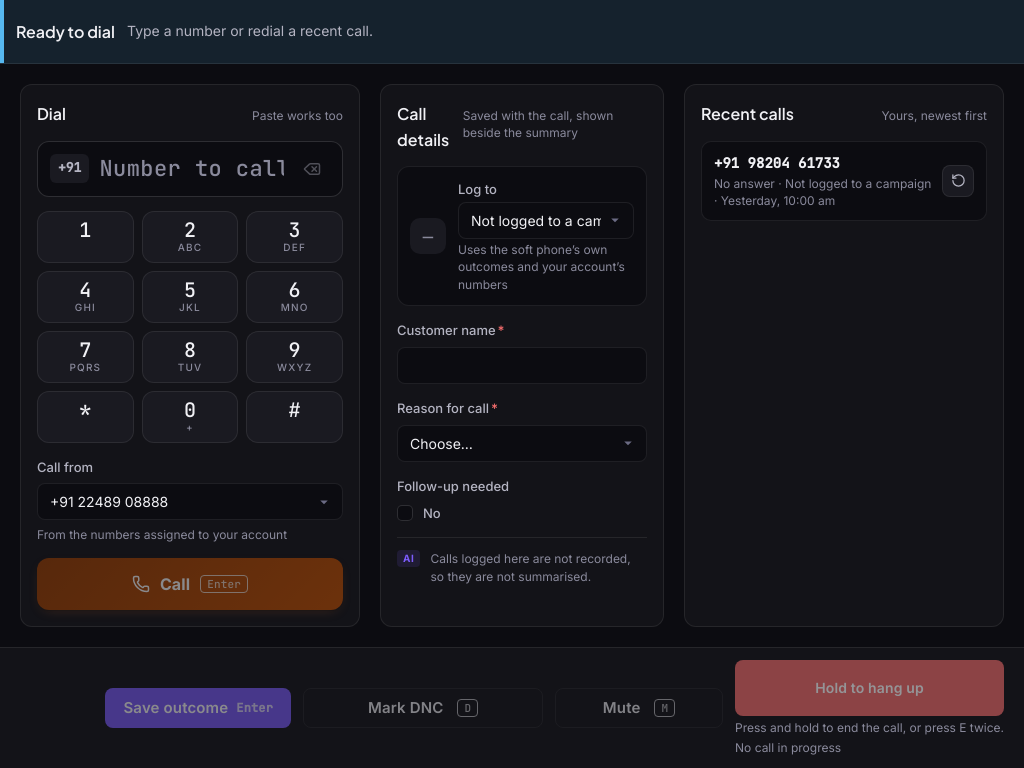
Ready › reads a typed number as it will be dialled: a trunk 0 dropped beside the +91 chip, 00 as +
The image size is (1024, 768).
Step 1. Type "098204 61733" into the field with test id "dial-number" → (192, 169), box top-left (99, 154), bottom-right (284, 183)
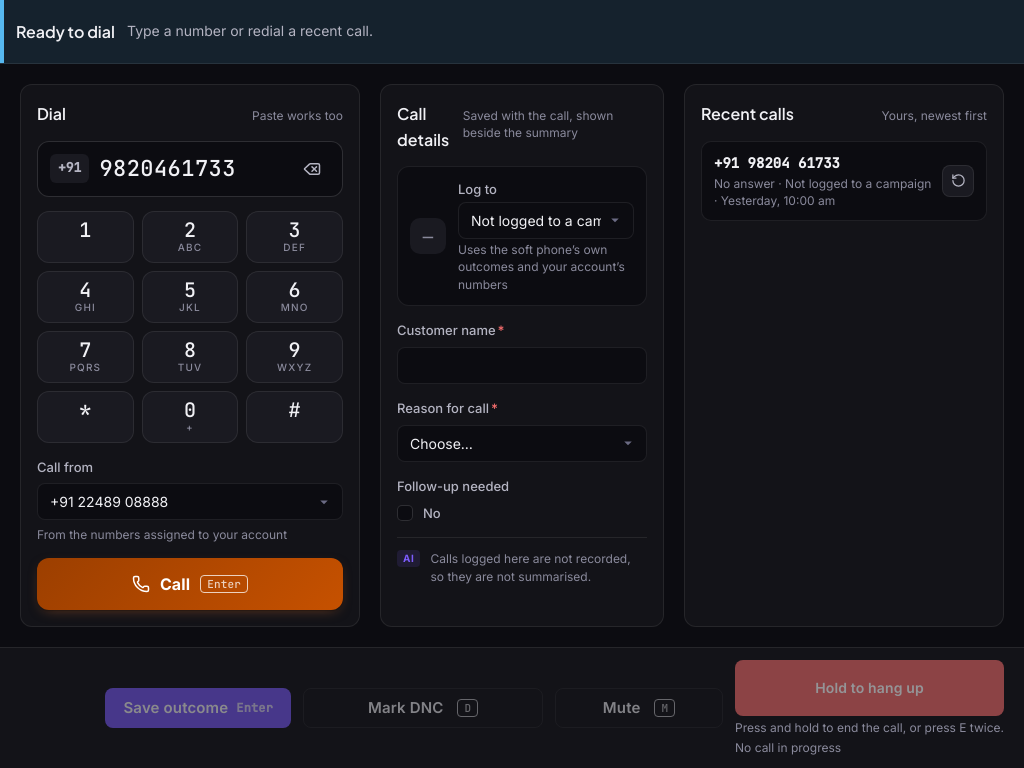
Expected: the element showing "+91" is shown, top-left (37, 141), bottom-right (343, 197)
Result: the field with test id "dial-number" holds "9820461733"
Step 2. Clear the field with test id "dial-number" → (192, 169), box top-left (99, 154), bottom-right (284, 183)
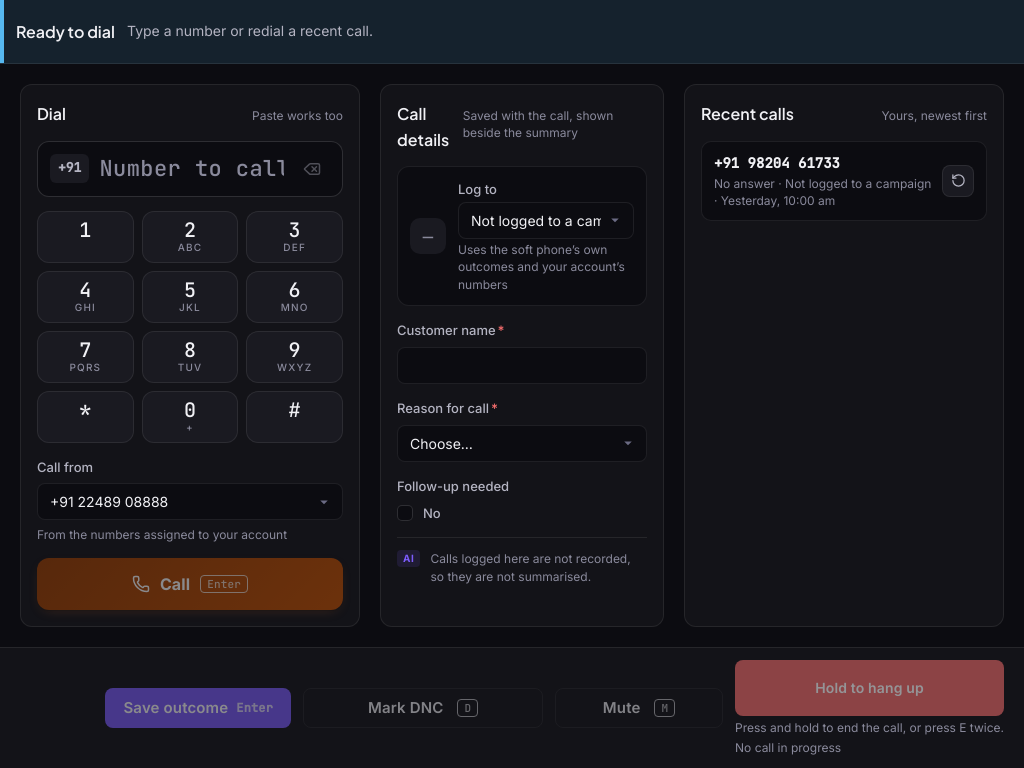
Step 3. Press 0
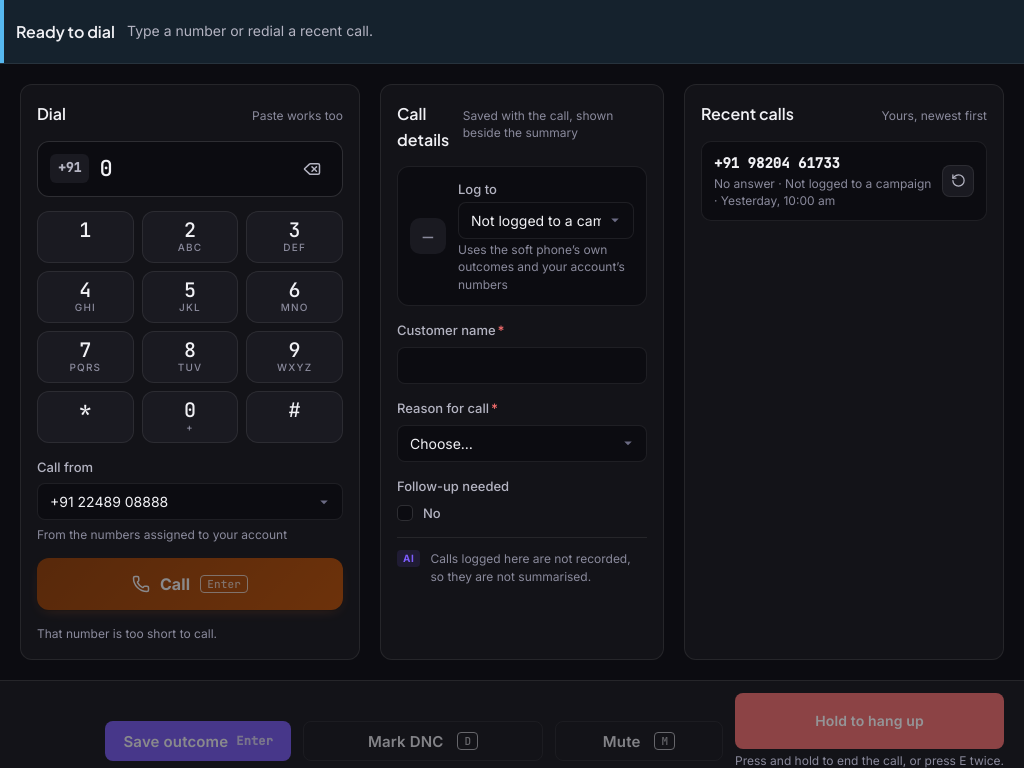
Step 4. Press 0
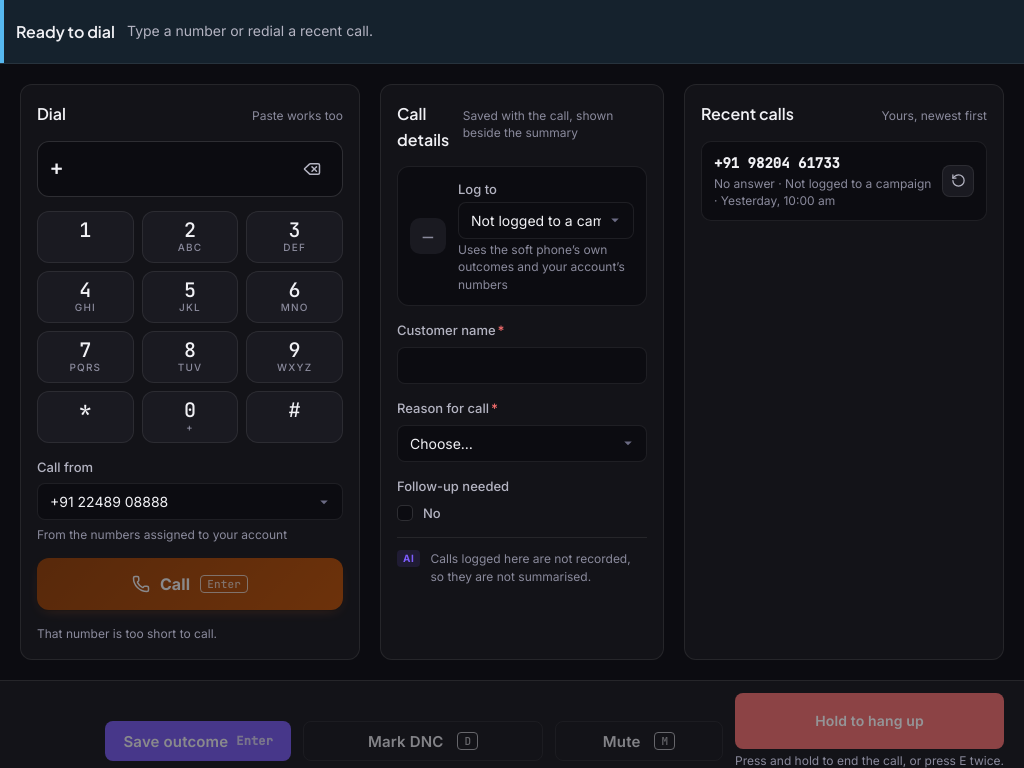
Step 5. Press 4
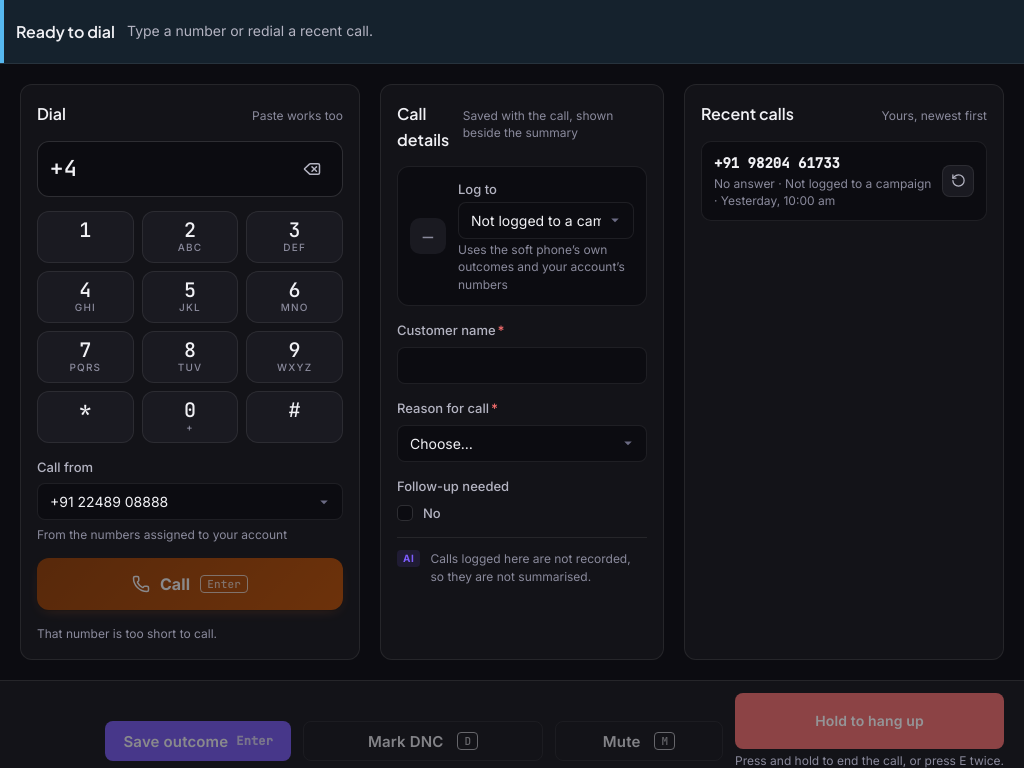
Step 6. Press 4
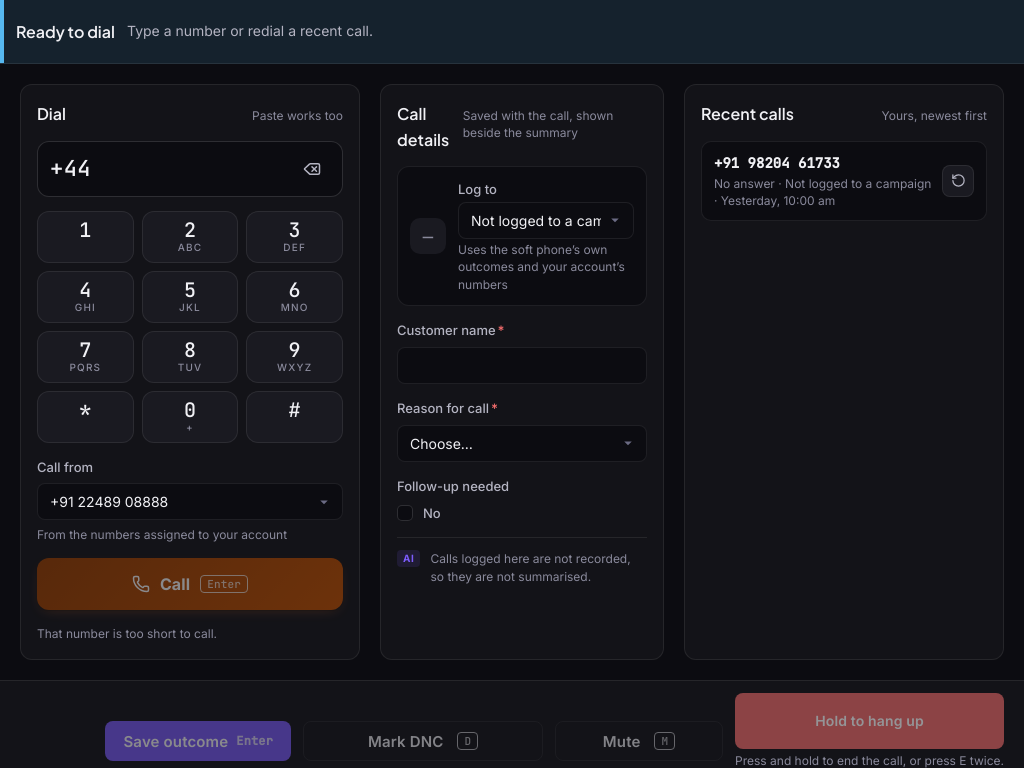
Result: the field with test id "dial-number" holds "+44" at top-left (50, 154), bottom-right (284, 183)
